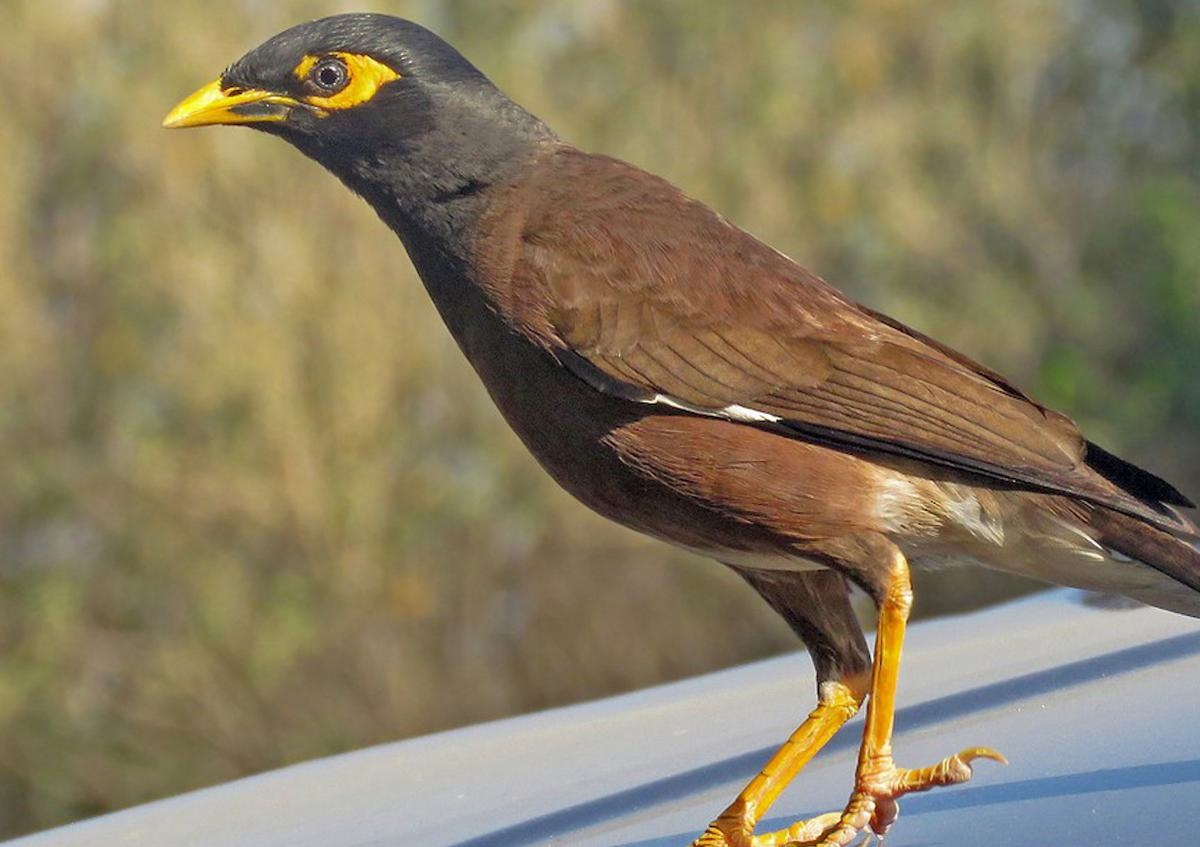myna: (191, 18, 1094, 763)
